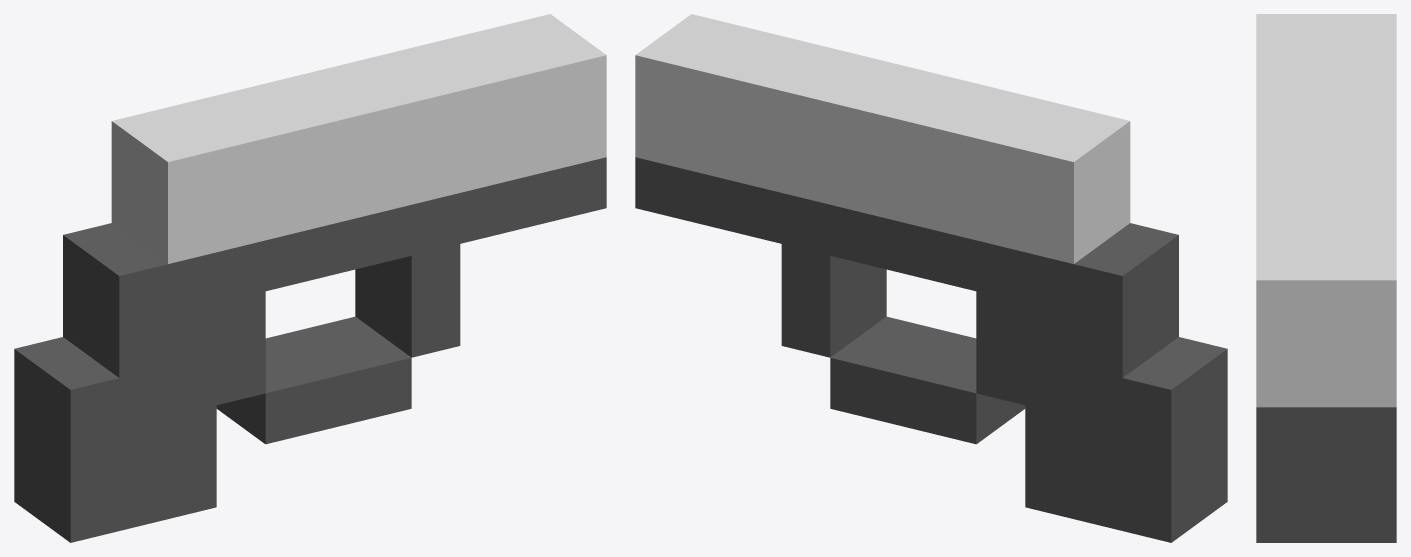
The picture shows the model from 3 angles, left to right: view 1: azimuth 30°, elevation 25°; view 2: azimuth 150°, elevation 25°; view 3: azimuth 270°, elevation 25°; orthographic projection. The views are drawn at different scales.
Parts seen in each view (by area): view 1: 58; view 2: 58; view 3: 58.
Part boxes in pixels (bbox=[...]): 58: bbox=[14, 14, 606, 542]; 58: bbox=[635, 14, 1227, 542]; 58: bbox=[1256, 14, 1396, 542].
Bounding box in the file's own units: 0.4331 × 0.2756 × 0.0787.
1 material, 1 textured.
